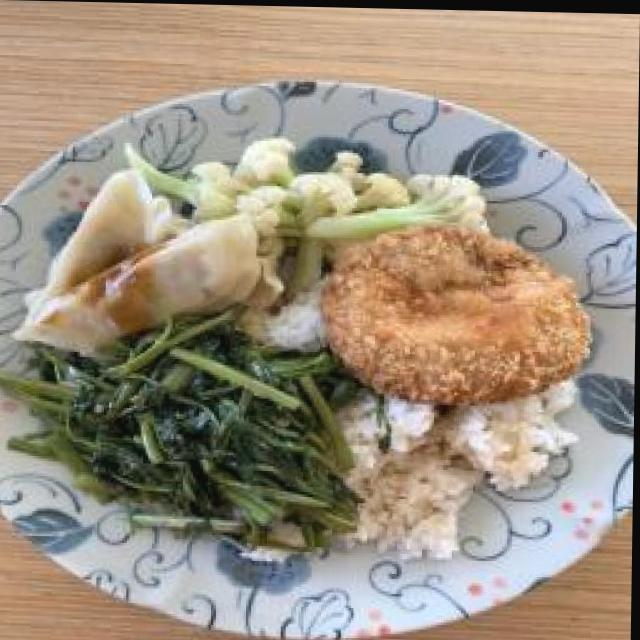fried_dumplings: (14, 165, 261, 360)
rice: (344, 391, 566, 558)
water_spinach: (31, 321, 331, 536)
